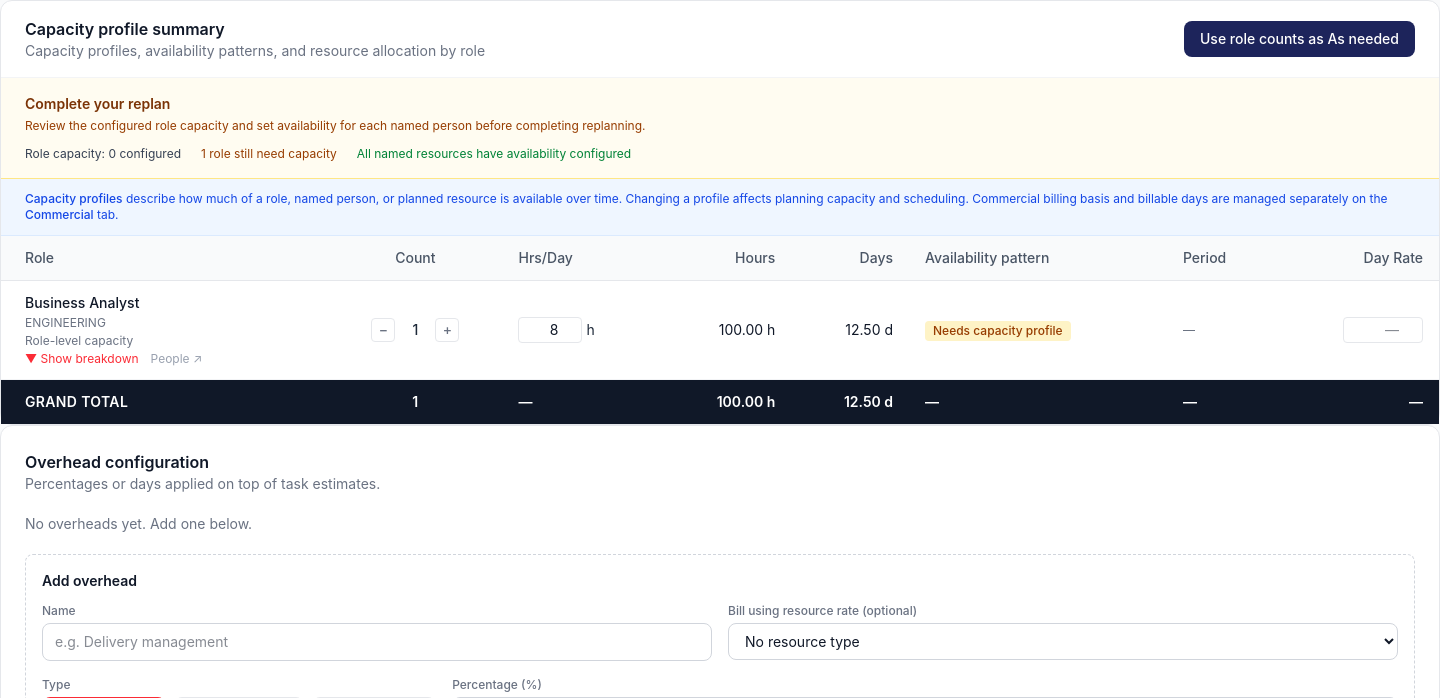
ResourceProfileTab — bulk Use role counts as As needed (issue #456) › surfaces a bulk action failure instead of failing silently
This screenshot has width=1440, height=698.
Click the button "Use role counts as As needed" at (1300, 39), box top-left (1184, 21), bottom-right (1415, 57)
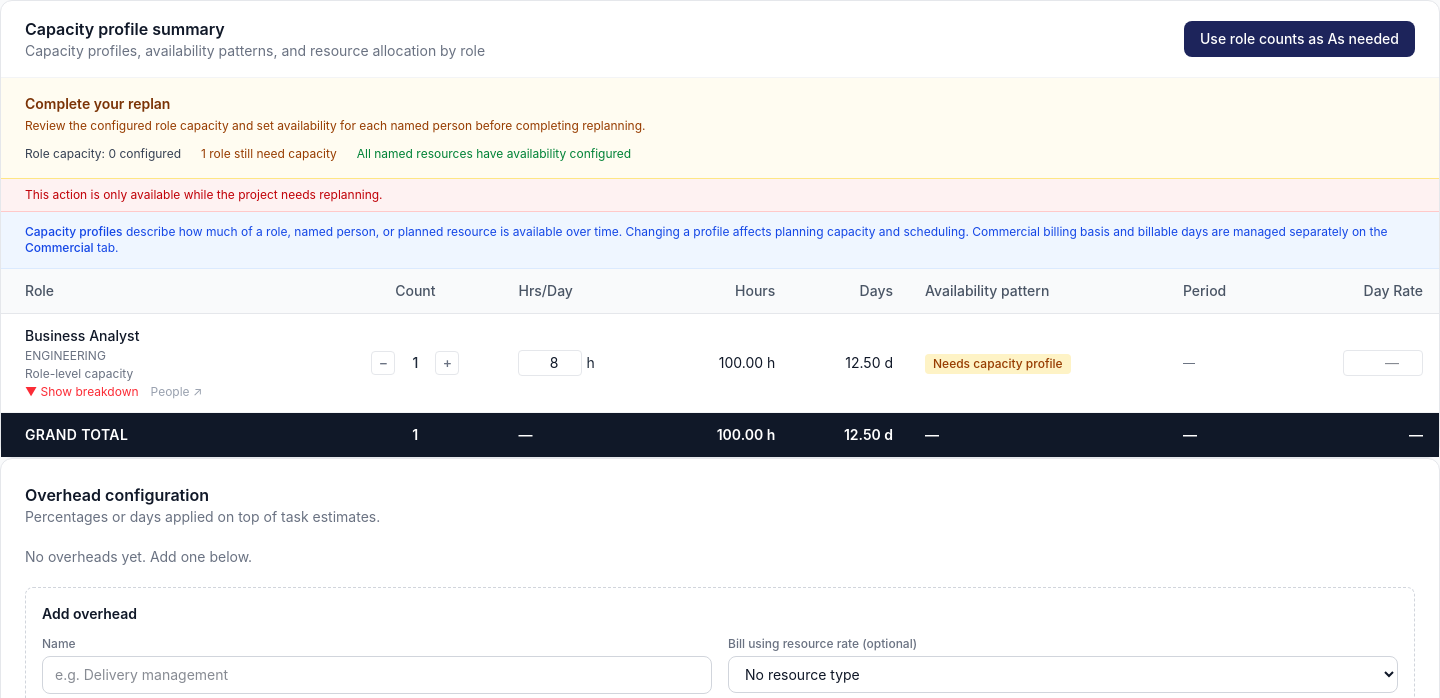
Expected: the message with test id "bulk-as-needed-error" reads "This action is only available while the project needs replanning.", top-left (25, 187), bottom-right (382, 202)
